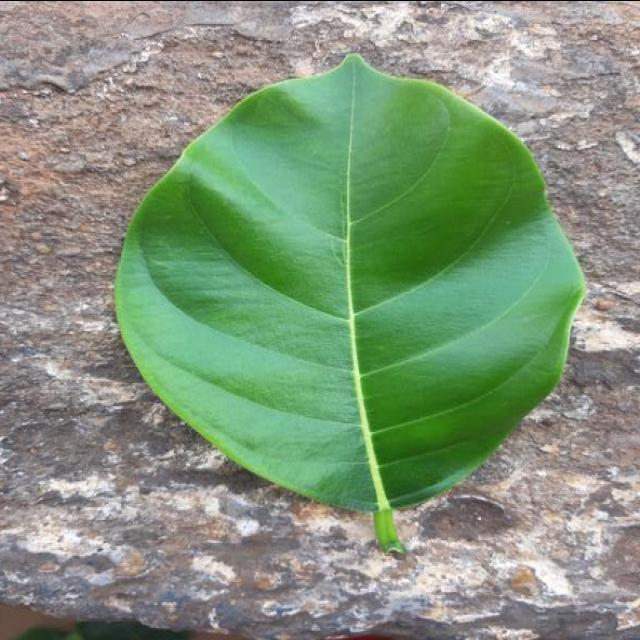leaf: (113, 51, 587, 555)
